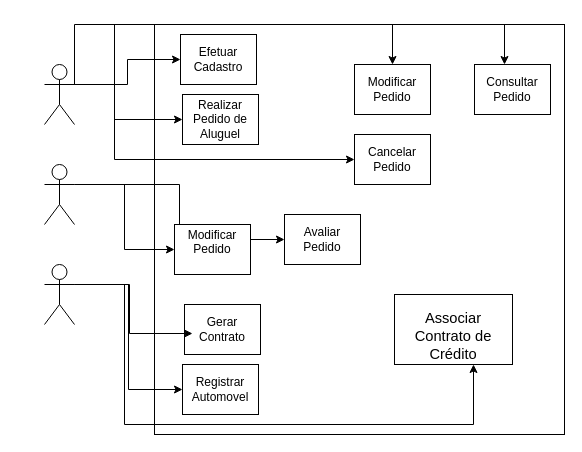
Some shapes in this 582 by 452 pixel diagram are drawn without their labels. The shapes that lost their labels are listed below. From the top down, each one's centre as x and y in pixels, then its label:
(59,94): Cliente
(59,194): Agencia
(59,294): Sistema Central
